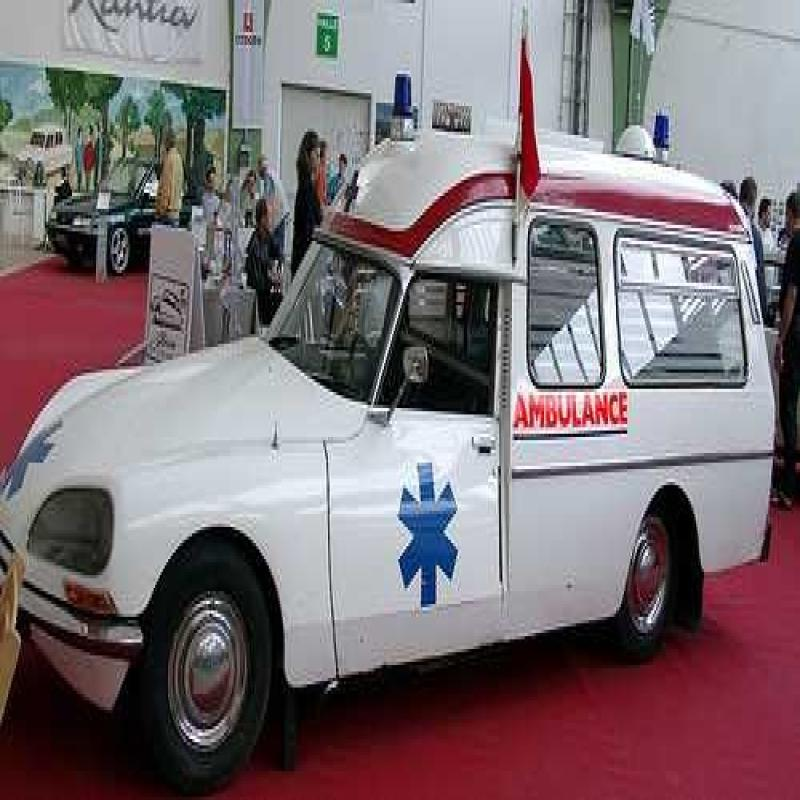AmbulanceSiren: (382, 57, 420, 142), (646, 97, 677, 160)
